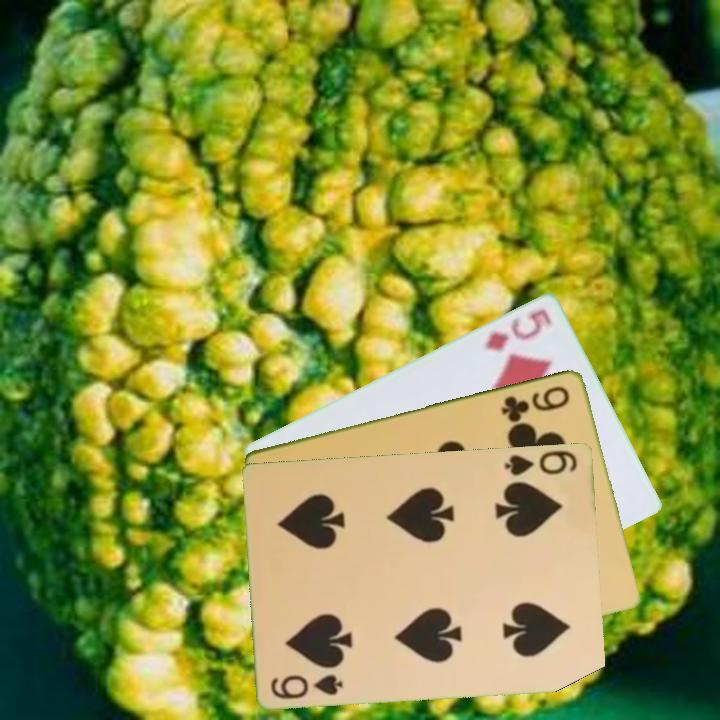5d: (481, 304, 556, 354)
6s: (501, 446, 580, 478), (267, 670, 346, 702)
9c: (498, 382, 573, 423)
